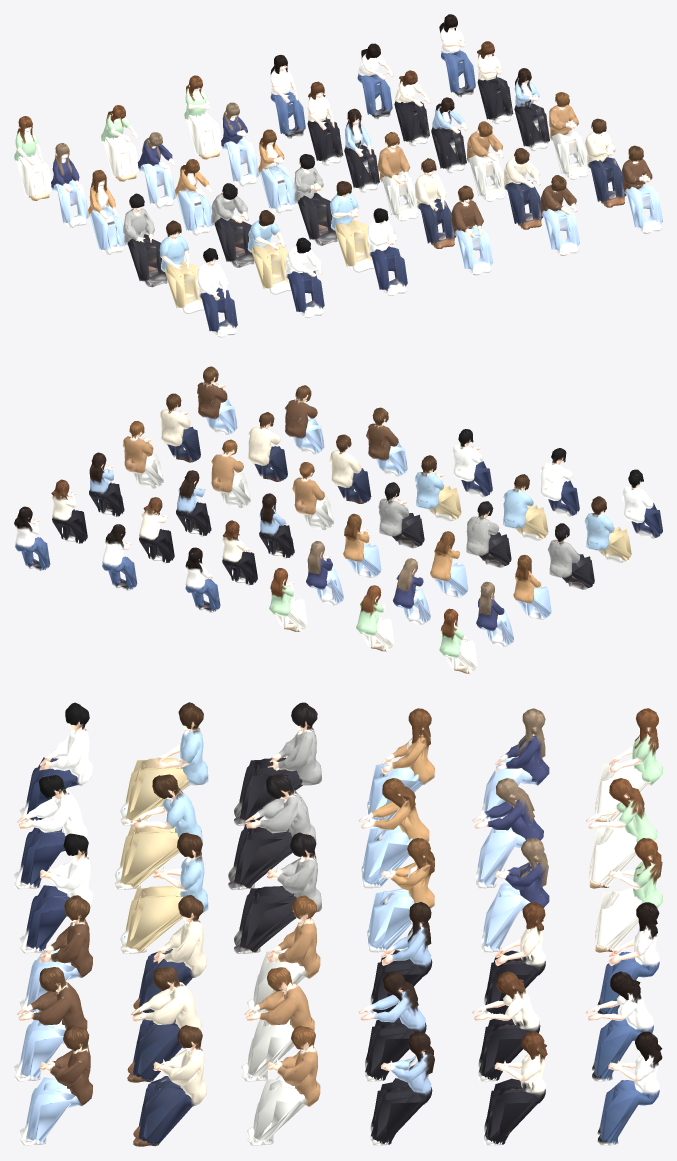
File: seated_figures.glb
3 renders of one model, top to bottom at view 1: azimuth 30°, elevation 25°; view 2: azimuth 150°, elevation 25°; view 3: azimuth 270°, elevation 25°, orthographic. The views are drawn at different scales.
Visible parts, largest first — view 1: fig_npc_nm8_listen_c0, fig_npc_nm2_listen_c0, fig_npc_nm8_phone_c0, fig_npc_nm2_write_c0, fig_npc_nm2_phone_c0, fig_npc_nm8_write_c0, fig_npc_nm15_listen_c0, fig_npc_nm11_listen_c0, fig_npc_nm13_listen_c0, fig_npc_nm11_phone_c0, fig_npc_nm15_phone_c0, fig_npc_nm3_listen_c0 (+24 smaller); view 2: fig_npc_nm2_write_c0, fig_npc_nm8_write_c0, fig_npc_nm2_phone_c0, fig_npc_nm8_phone_c0, fig_npc_nm8_listen_c0, fig_npc_nm11_write_c0, fig_npc_nm2_listen_c0, fig_npc_nm11_phone_c0, fig_npc_nm15_write_c0, fig_npc_nm11_listen_c0, fig_npc_nm3_write_c0, fig_npc_nm13_write_c0 (+24 smaller); view 3: fig_npc_nm2_write_c0, fig_npc_nm2_phone_c0, fig_npc_nm8_write_c0, fig_npc_nm8_phone_c0, fig_npc_nm11_phone_c0, fig_npc_nm11_write_c0, fig_npc_nm3_phone_c0, fig_npc_nm15_phone_c0, fig_npc_nm3_write_c0, fig_npc_nm15_write_c0, fig_npc_nm2_listen_c0, fig_npc_nm8_listen_c0 (+24 smaller).
Boxes of the visible parts, x1,y1,x2,y2 form: fig_npc_nm8_listen_c0: (159,220,204,313); fig_npc_nm2_listen_c0: (123,193,167,287); fig_npc_nm8_phone_c0: (330,181,374,272); fig_npc_nm2_write_c0: (211,183,254,267); fig_npc_nm2_phone_c0: (294,154,337,245); fig_npc_nm8_write_c0: (247,210,290,294); fig_npc_nm15_listen_c0: (451,185,492,275); fig_npc_nm11_listen_c0: (415,158,456,248); fig_npc_nm13_listen_c0: (196,248,237,337); fig_npc_nm11_phone_c0: (585,118,626,207); fig_npc_nm15_phone_c0: (622,145,662,233); fig_npc_nm3_listen_c0: (377,132,418,221); fig_npc_nm2_write_c0: (466,501,511,567); fig_npc_nm8_write_c0: (503,474,548,540); fig_npc_nm2_phone_c0: (378,482,424,548); fig_npc_nm8_phone_c0: (414,455,461,521); fig_npc_nm8_listen_c0: (584,496,631,562); fig_npc_nm11_write_c0: (248,412,287,481); fig_npc_nm2_listen_c0: (547,523,594,589); fig_npc_nm11_phone_c0: (159,393,200,462); fig_npc_nm15_write_c0: (285,385,324,454); fig_npc_nm11_listen_c0: (329,434,371,503); fig_npc_nm3_write_c0: (211,439,250,508); fig_npc_nm13_write_c0: (540,448,579,516); fig_npc_nm2_write_c0: (228,774,316,889); fig_npc_nm2_phone_c0: (234,832,321,953); fig_npc_nm8_write_c0: (114,774,202,889); fig_npc_nm8_phone_c0: (120,832,208,953); fig_npc_nm11_phone_c0: (133,1025,206,1146); fig_npc_nm11_write_c0: (127,966,201,1082); fig_npc_nm3_phone_c0: (247,1025,320,1145); fig_npc_nm15_phone_c0: (19,1025,92,1145); fig_npc_nm3_write_c0: (241,967,314,1081); fig_npc_nm15_write_c0: (14,967,87,1081); fig_npc_nm2_listen_c0: (234,702,321,825); fig_npc_nm8_listen_c0: (120,702,208,825).
Size of what is drawn, in the model's own units: 8.54 by 1.36 by 6.85.
1 material, 1 textured.
